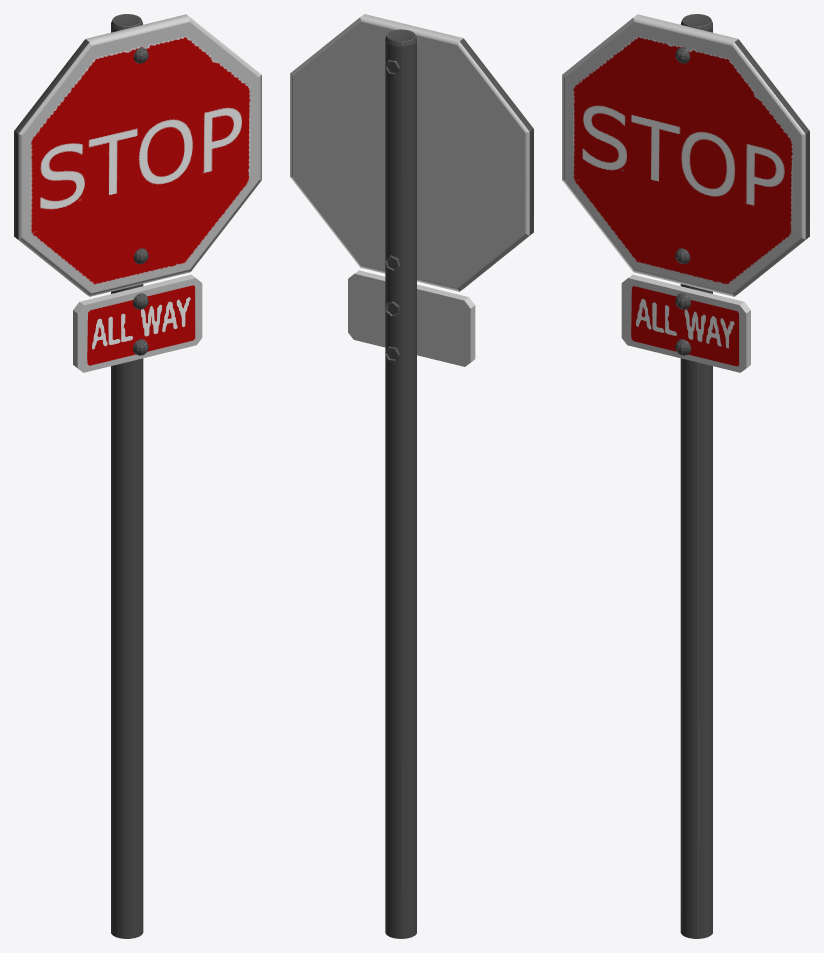
The model's file is Stop.fbx.
3 views of the same model, side by side, from view 1: azimuth 30°, elevation 25°; view 2: azimuth 150°, elevation 25°; view 3: azimuth 330°, elevation 25° (orthographic).
Visible parts, largest first — view 1: pCylinder10; view 2: pCylinder10; view 3: pCylinder10.
Boxes of the visible parts, <box> form: pCylinder10: <box>14,14,261,938</box>; pCylinder10: <box>290,14,533,938</box>; pCylinder10: <box>562,14,809,938</box>.
Size of the model in its own units: 8.9 by 31.84 by 1.7.
1 material, 1 textured.
